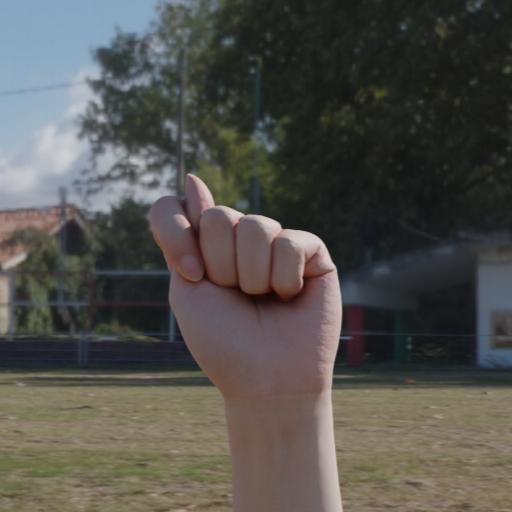T: (134, 158, 356, 405)
